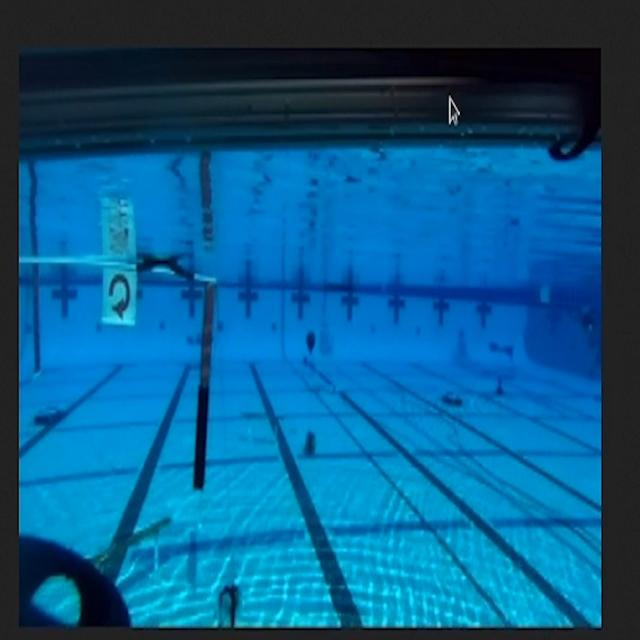Gate: (22, 254, 219, 499)
